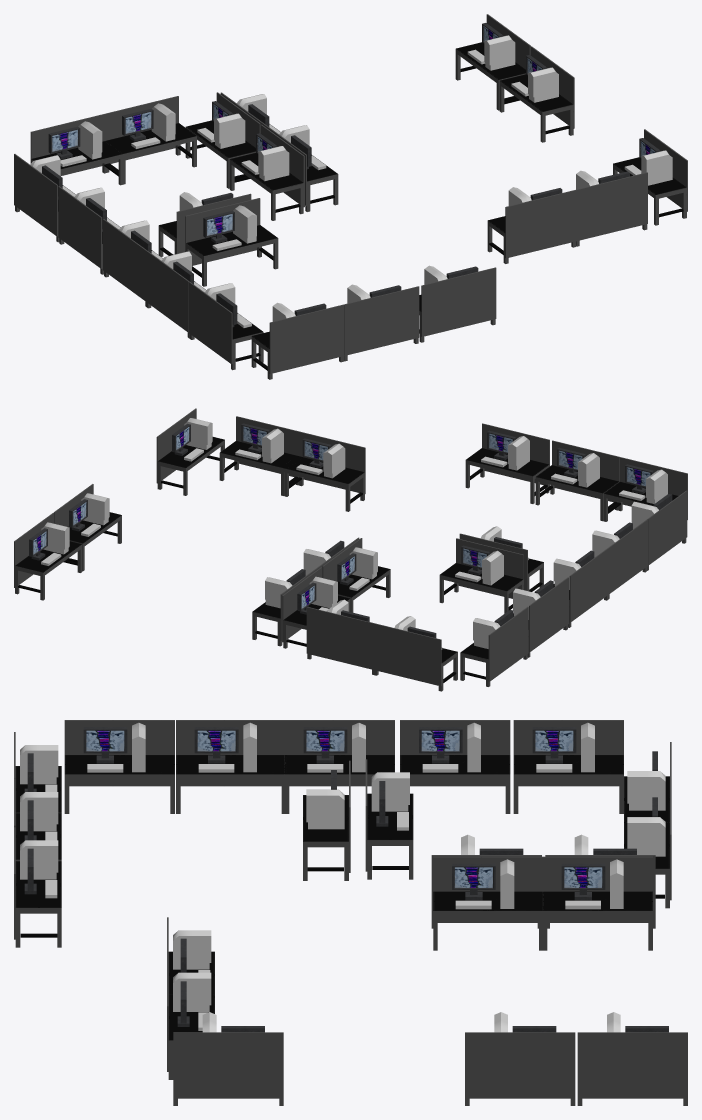
Rendered from MOD_GDD Computer Workstations.fbx.
3 views of the same model, one above another, from view 1: azimuth 30°, elevation 25°; view 2: azimuth 150°, elevation 25°; view 3: azimuth 270°, elevation 25° (orthographic). The views are drawn at different scales.
Visible parts, largest first — view 1: Computer_Desk1 (×20), CPU (×8), Monitor (×3); view 2: Computer_Desk1 (×20), CPU (×18), Monitor (×11); view 3: Computer_Desk1 (×19), CPU (×16), Monitor (×7).
Boxes of the visible parts, left/top/right/bottom form: Computer_Desk1 (×20): left=14, top=14, right=687, bottom=379; CPU (×8): left=78, top=35, right=672, bottom=243; Monitor (×3): left=48, top=108, right=234, bottom=243; Computer_Desk1 (×20): left=14, top=408, right=687, bottom=691; CPU (×18): left=41, top=418, right=667, bottom=648; Monitor (×11): left=29, top=423, right=653, bottom=614; Computer_Desk1 (×19): left=14, top=720, right=687, bottom=1105; CPU (×16): left=20, top=722, right=665, bottom=1011; Monitor (×7): left=83, top=727, right=605, bottom=900.
Bounding box in the file's own units: 1123 × 127 × 1022.
